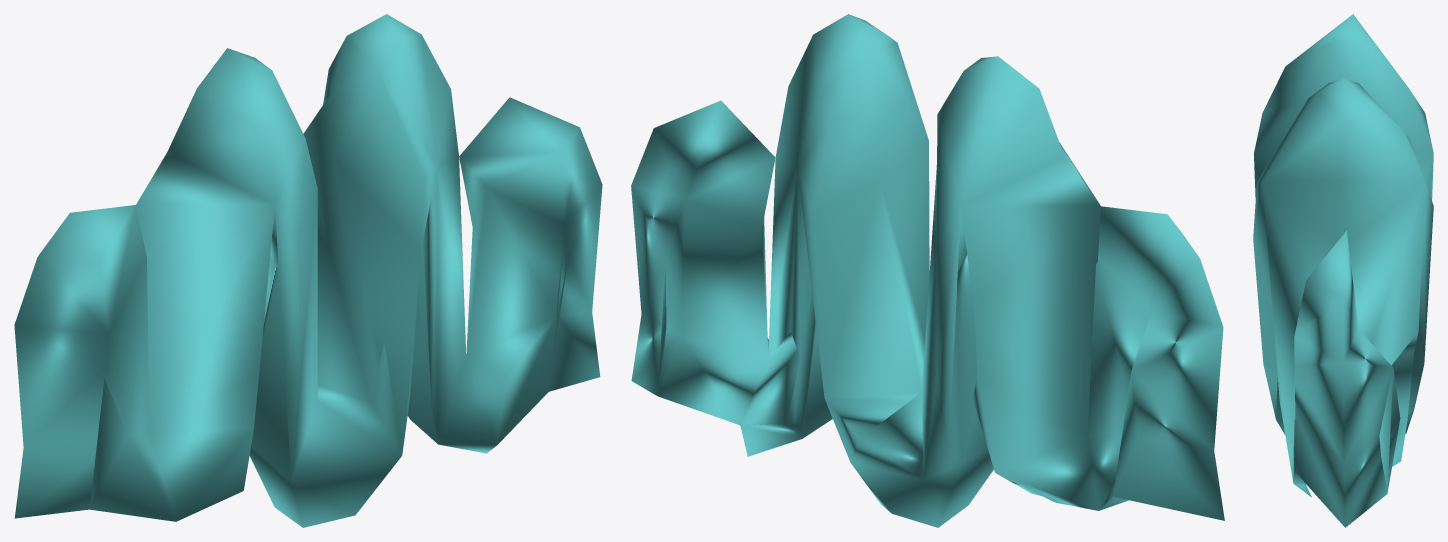
Rendered from usk_Bush-RfUP3gXj69_lod.glb.
3 views of the same model, side by side, from view 1: azimuth 30°, elevation 25°; view 2: azimuth 150°, elevation 25°; view 3: azimuth 270°, elevation 25° (orthographic). The views are drawn at different scales.
Visible parts, largest first — view 1: Bush_1; view 2: Bush_1; view 3: Bush_1.
Part boxes in pixels (x1,y1,x2,y2): Bush_1: (14, 14, 602, 527); Bush_1: (631, 14, 1224, 527); Bush_1: (1253, 14, 1433, 527).
Size of the model in its own units: 3.17 by 2.45 by 0.9757.
1 material, 1 textured.
